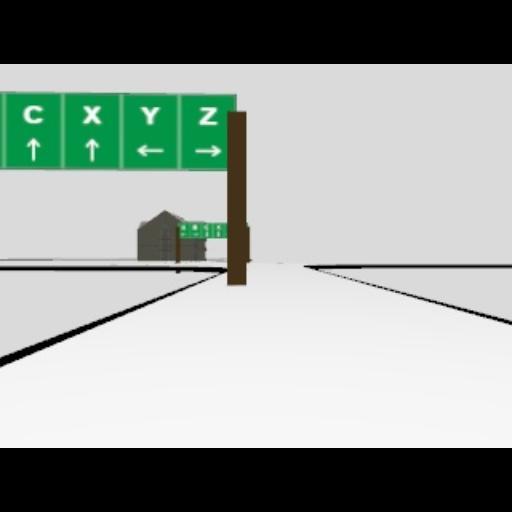C: (23, 102, 45, 124)
Left: (136, 144, 164, 156)
Right: (194, 144, 222, 156)
Straight: (85, 138, 99, 160), (26, 138, 40, 160)
X: (82, 104, 100, 124)
Y: (140, 104, 160, 124)
Z: (196, 106, 218, 124)
